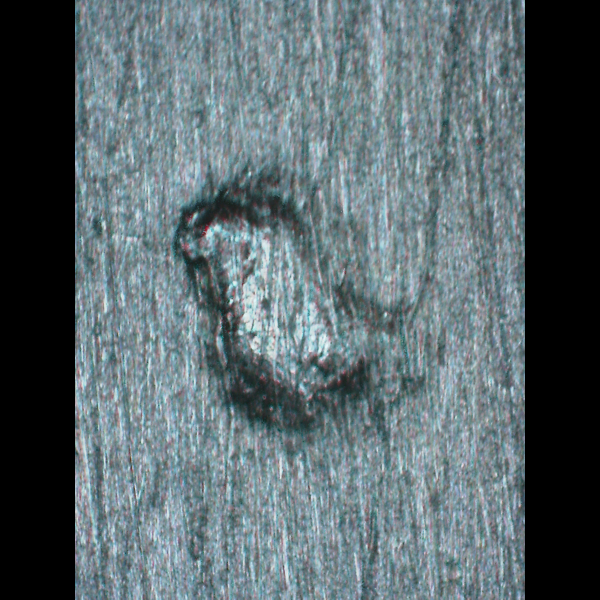d: (155, 158, 425, 446)
